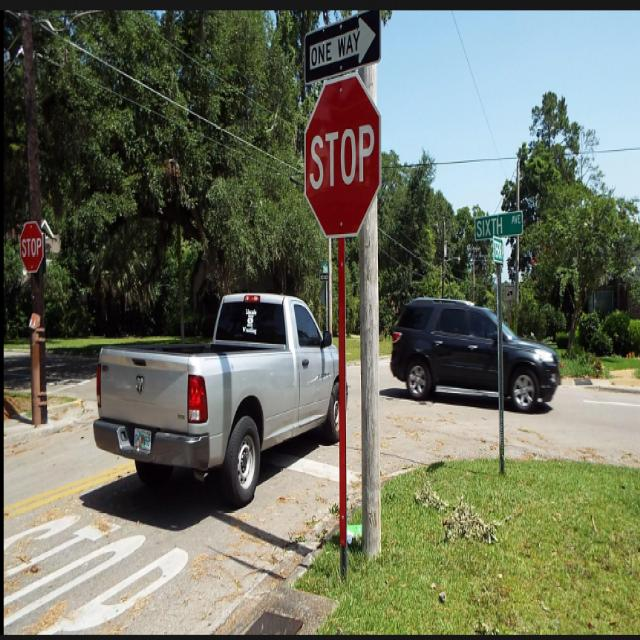stop-sign: (304, 84, 418, 260)
